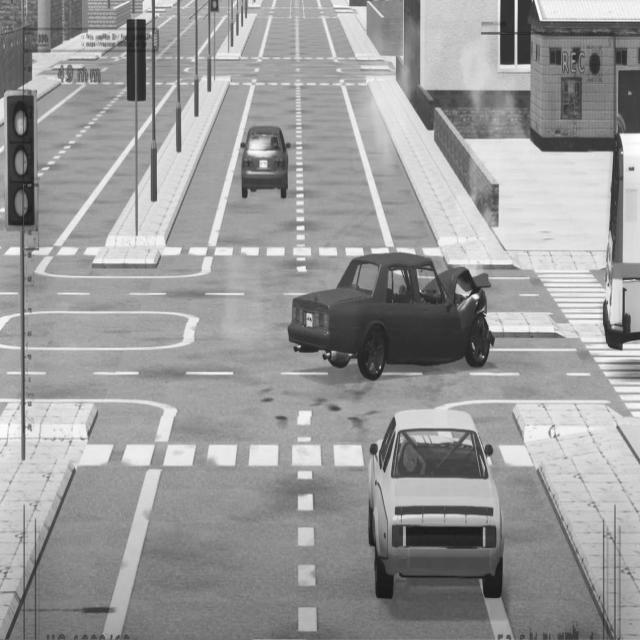accident: (288, 244, 497, 382)
vehicle: (367, 408, 505, 606), (240, 122, 290, 202)
